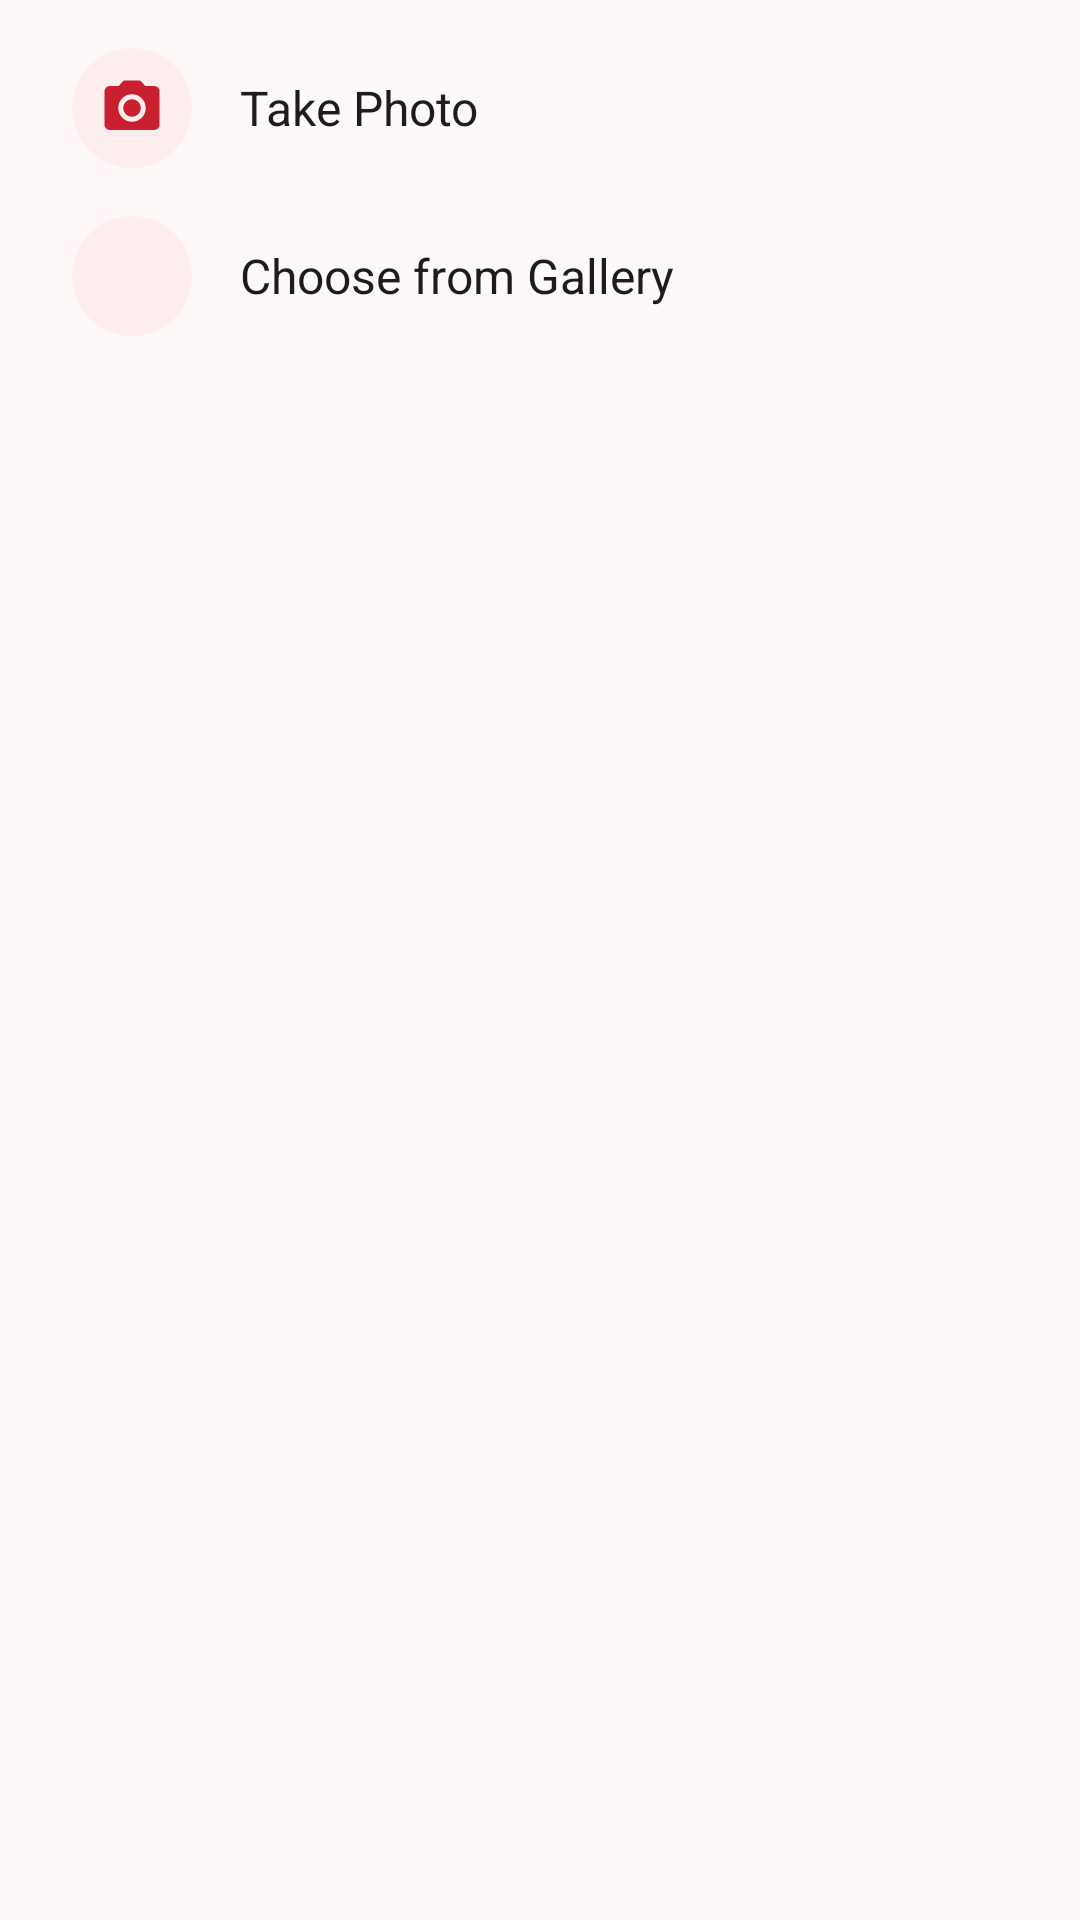

Icons on this 1080w x 1920h Android screen, each with the point to tap as (x,y):
camera: (132,105)
